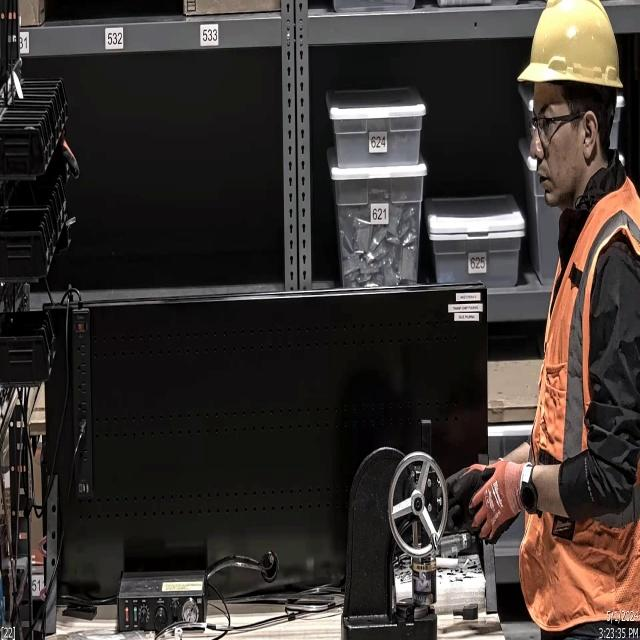gloves: (468, 458, 524, 549)
